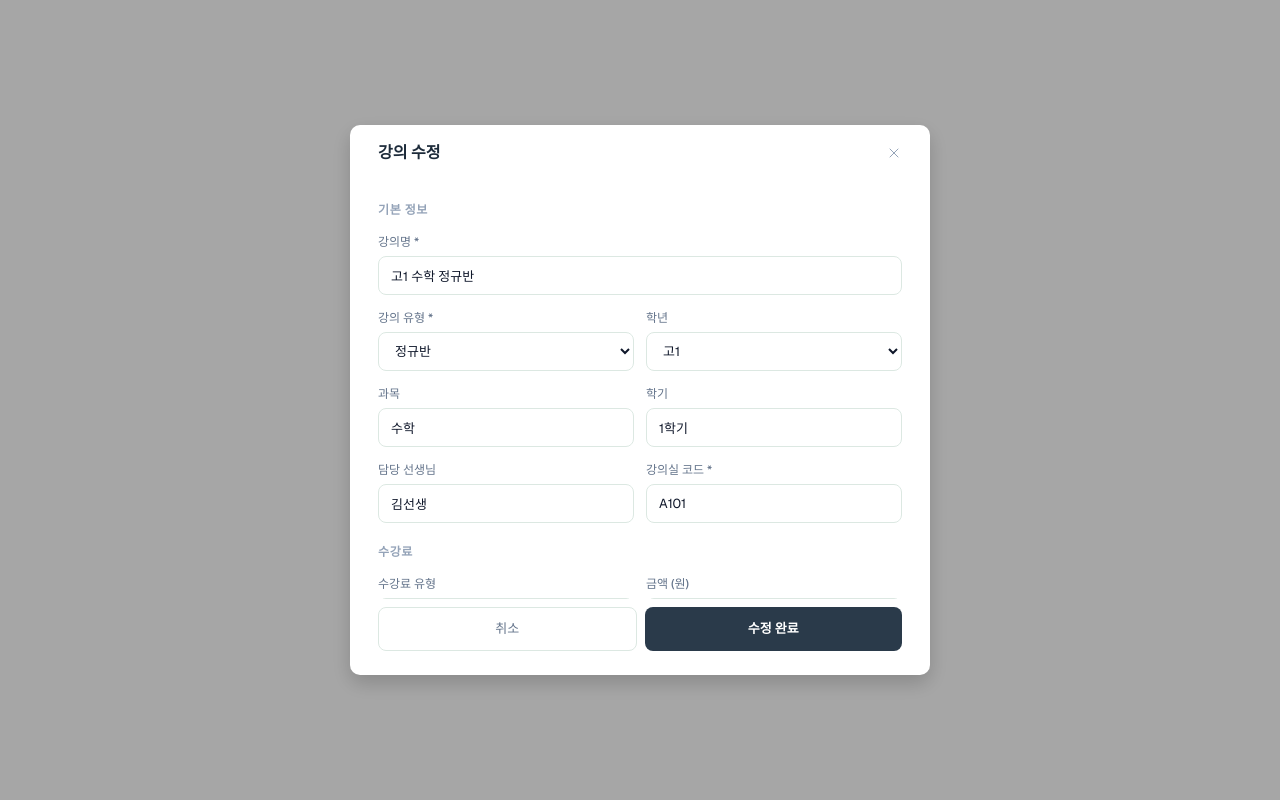
EditLectureModal › 강의명을 비우고 제출하면 에러 메시지를 노출한다
Clear the field labelled "강의명 *" at [640, 276], box [378,256,902,295]
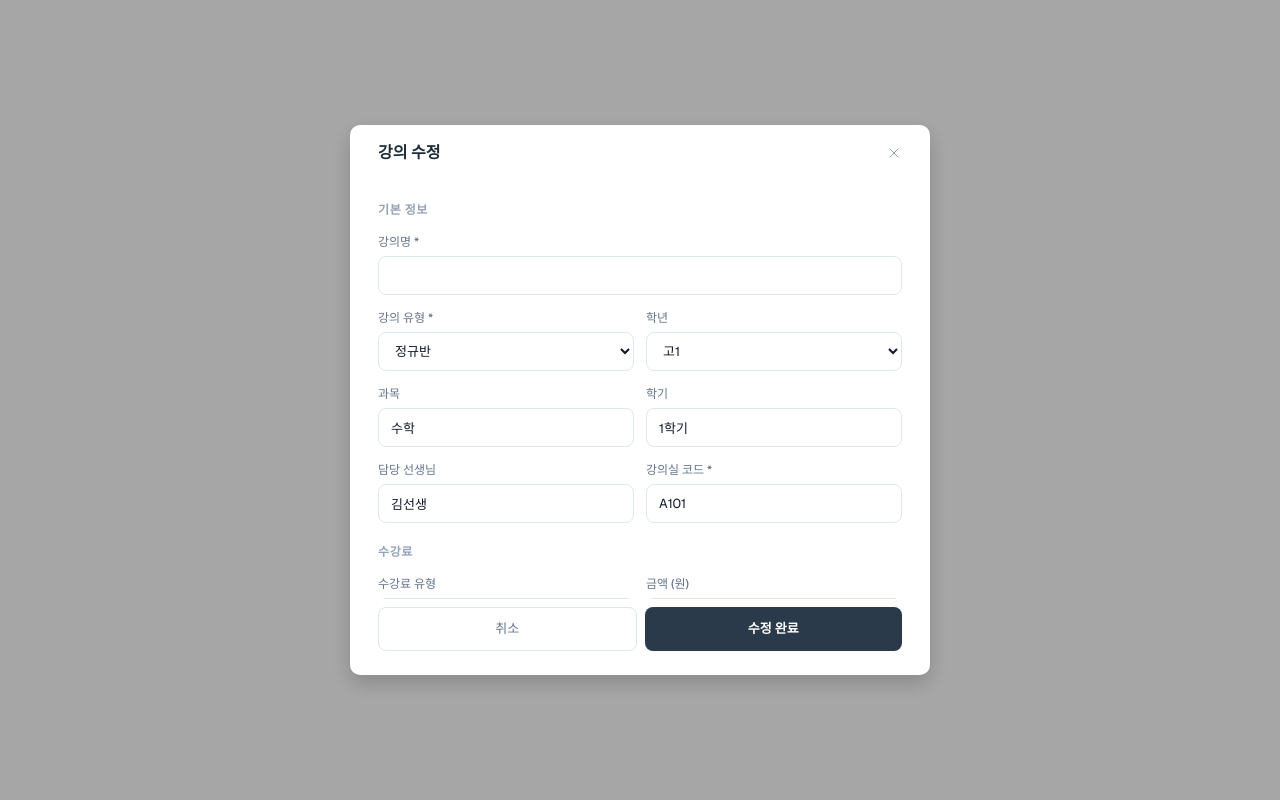
Submit the form named "수정 완료", box [350,125,930,675]
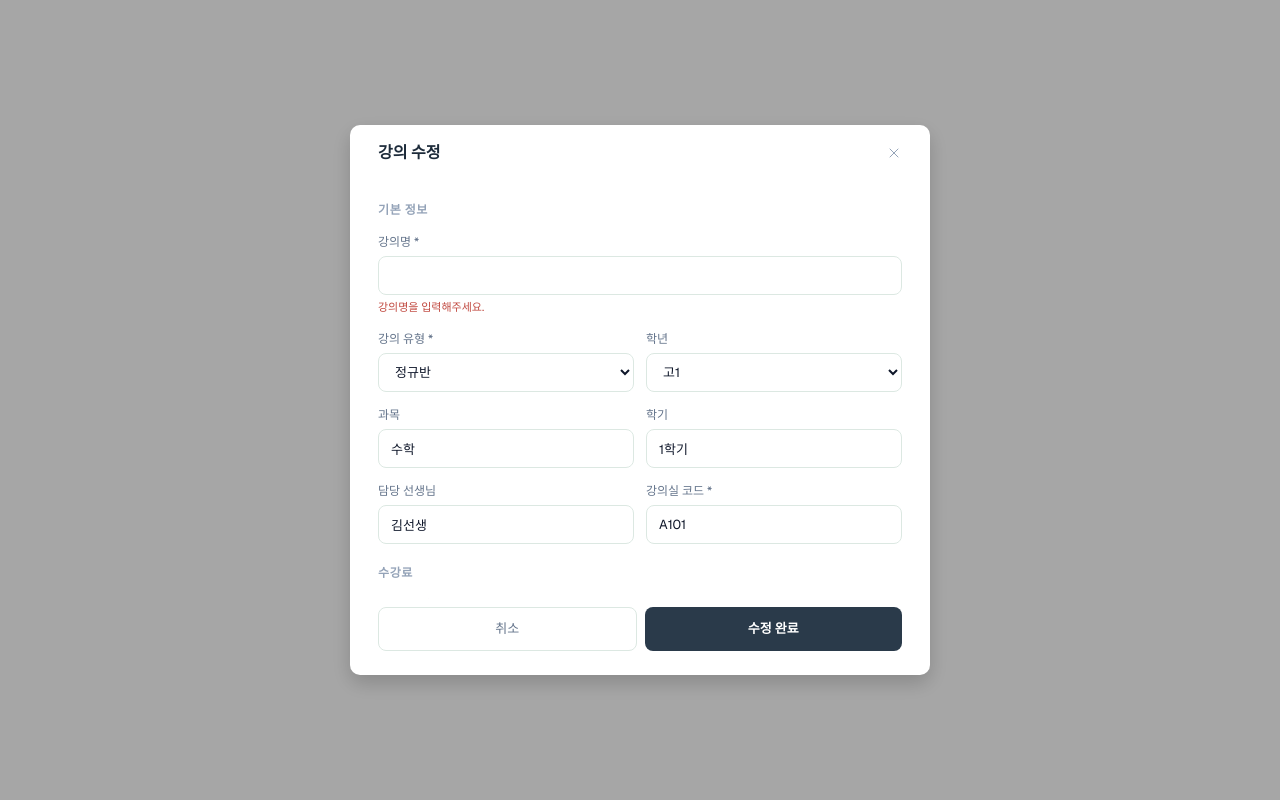
Expected: the text "강의명을 입력해주세요." is shown, [378,300,484,314]
